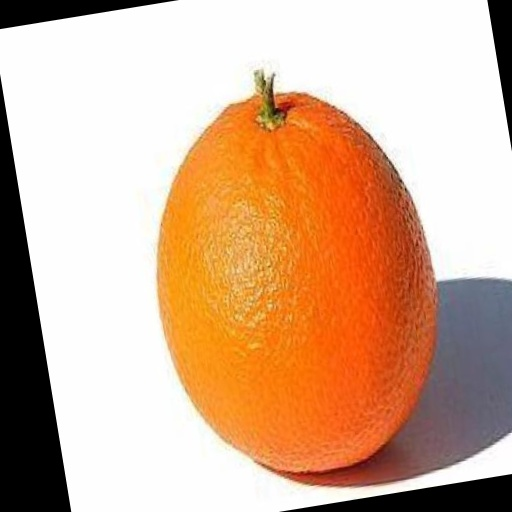fruit: (158, 72, 436, 472)
